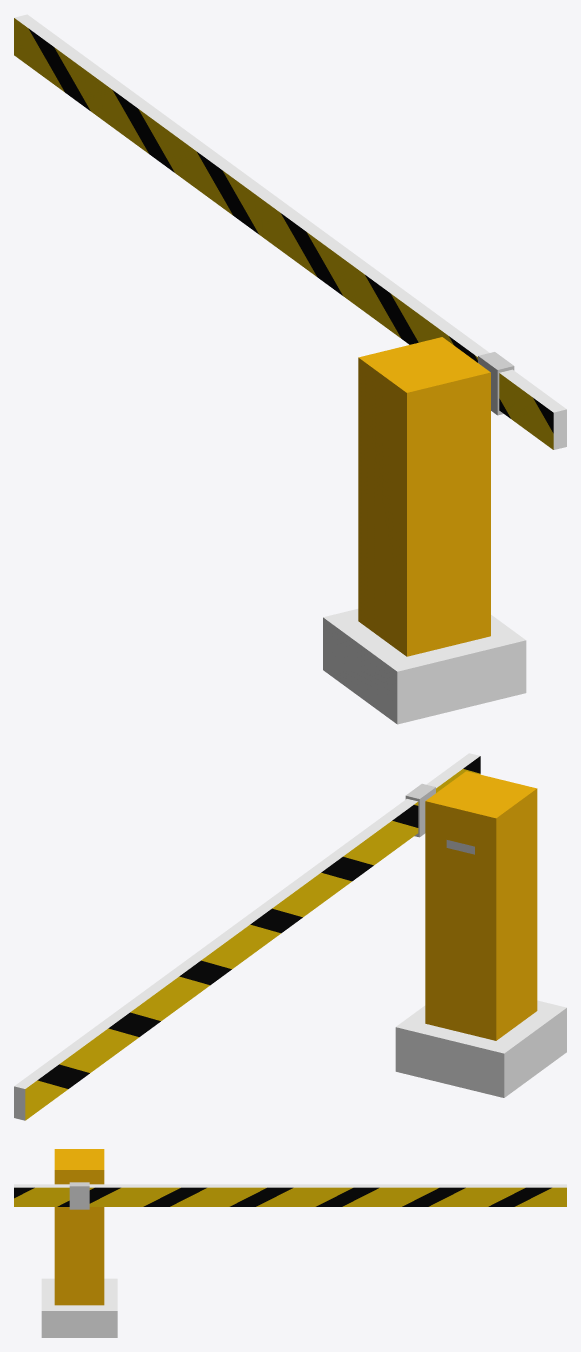
Rendered from cancela-lado-a.glb.
The picture shows the model from 3 angles, top to bottom: view 1: azimuth 30°, elevation 25°; view 2: azimuth 150°, elevation 25°; view 3: azimuth 270°, elevation 25°; orthographic projection. The views are drawn at different scales.
Visible parts, largest first — view 1: box, Gate_Arm_Side1, box1; view 2: box, Gate_Arm_Side1, box1; view 3: Gate_Arm_Side2, box, box1.
Part boxes in pixels (bbox=[...]): box: bbox=[323, 337, 526, 724]; Gate_Arm_Side1: bbox=[14, 18, 553, 449]; box1: bbox=[14, 14, 566, 449]; box: bbox=[395, 771, 566, 1097]; Gate_Arm_Side1: bbox=[25, 756, 480, 1120]; box1: bbox=[14, 753, 479, 1120]; Gate_Arm_Side2: bbox=[14, 1187, 566, 1206]; box: bbox=[41, 1149, 117, 1337]; box1: bbox=[14, 1182, 566, 1209].
Size of the model in its own units: 0.6549 by 1.37 by 4.24.
